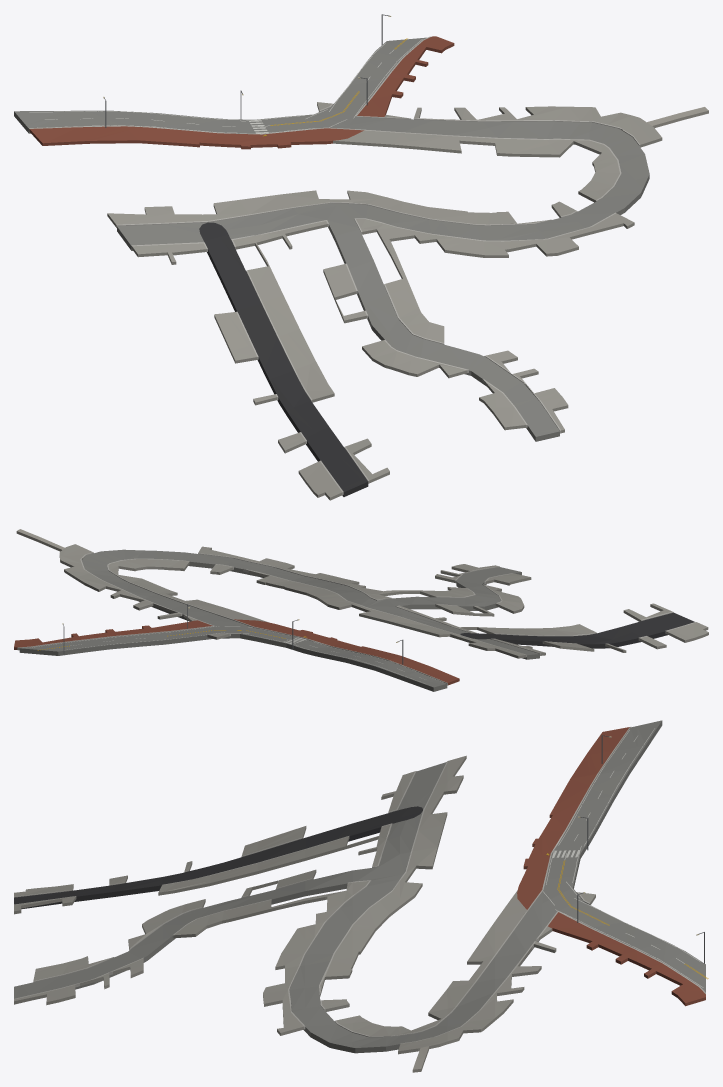
The picture shows the model from 3 angles, top to bottom: view 1: azimuth 30°, elevation 25°; view 2: azimuth 150°, elevation 25°; view 3: azimuth 270°, elevation 25°; orthographic projection. The views are drawn at different scales.
Bounding box in the file's own units: 147 × 44.02 × 146.
